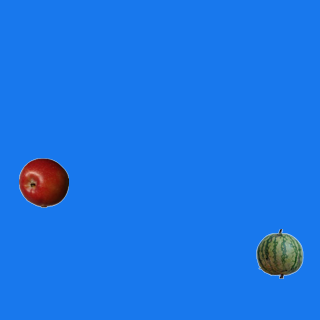Apple Braeburn: (18, 157, 68, 207)
Watermelon: (254, 228, 304, 278)
